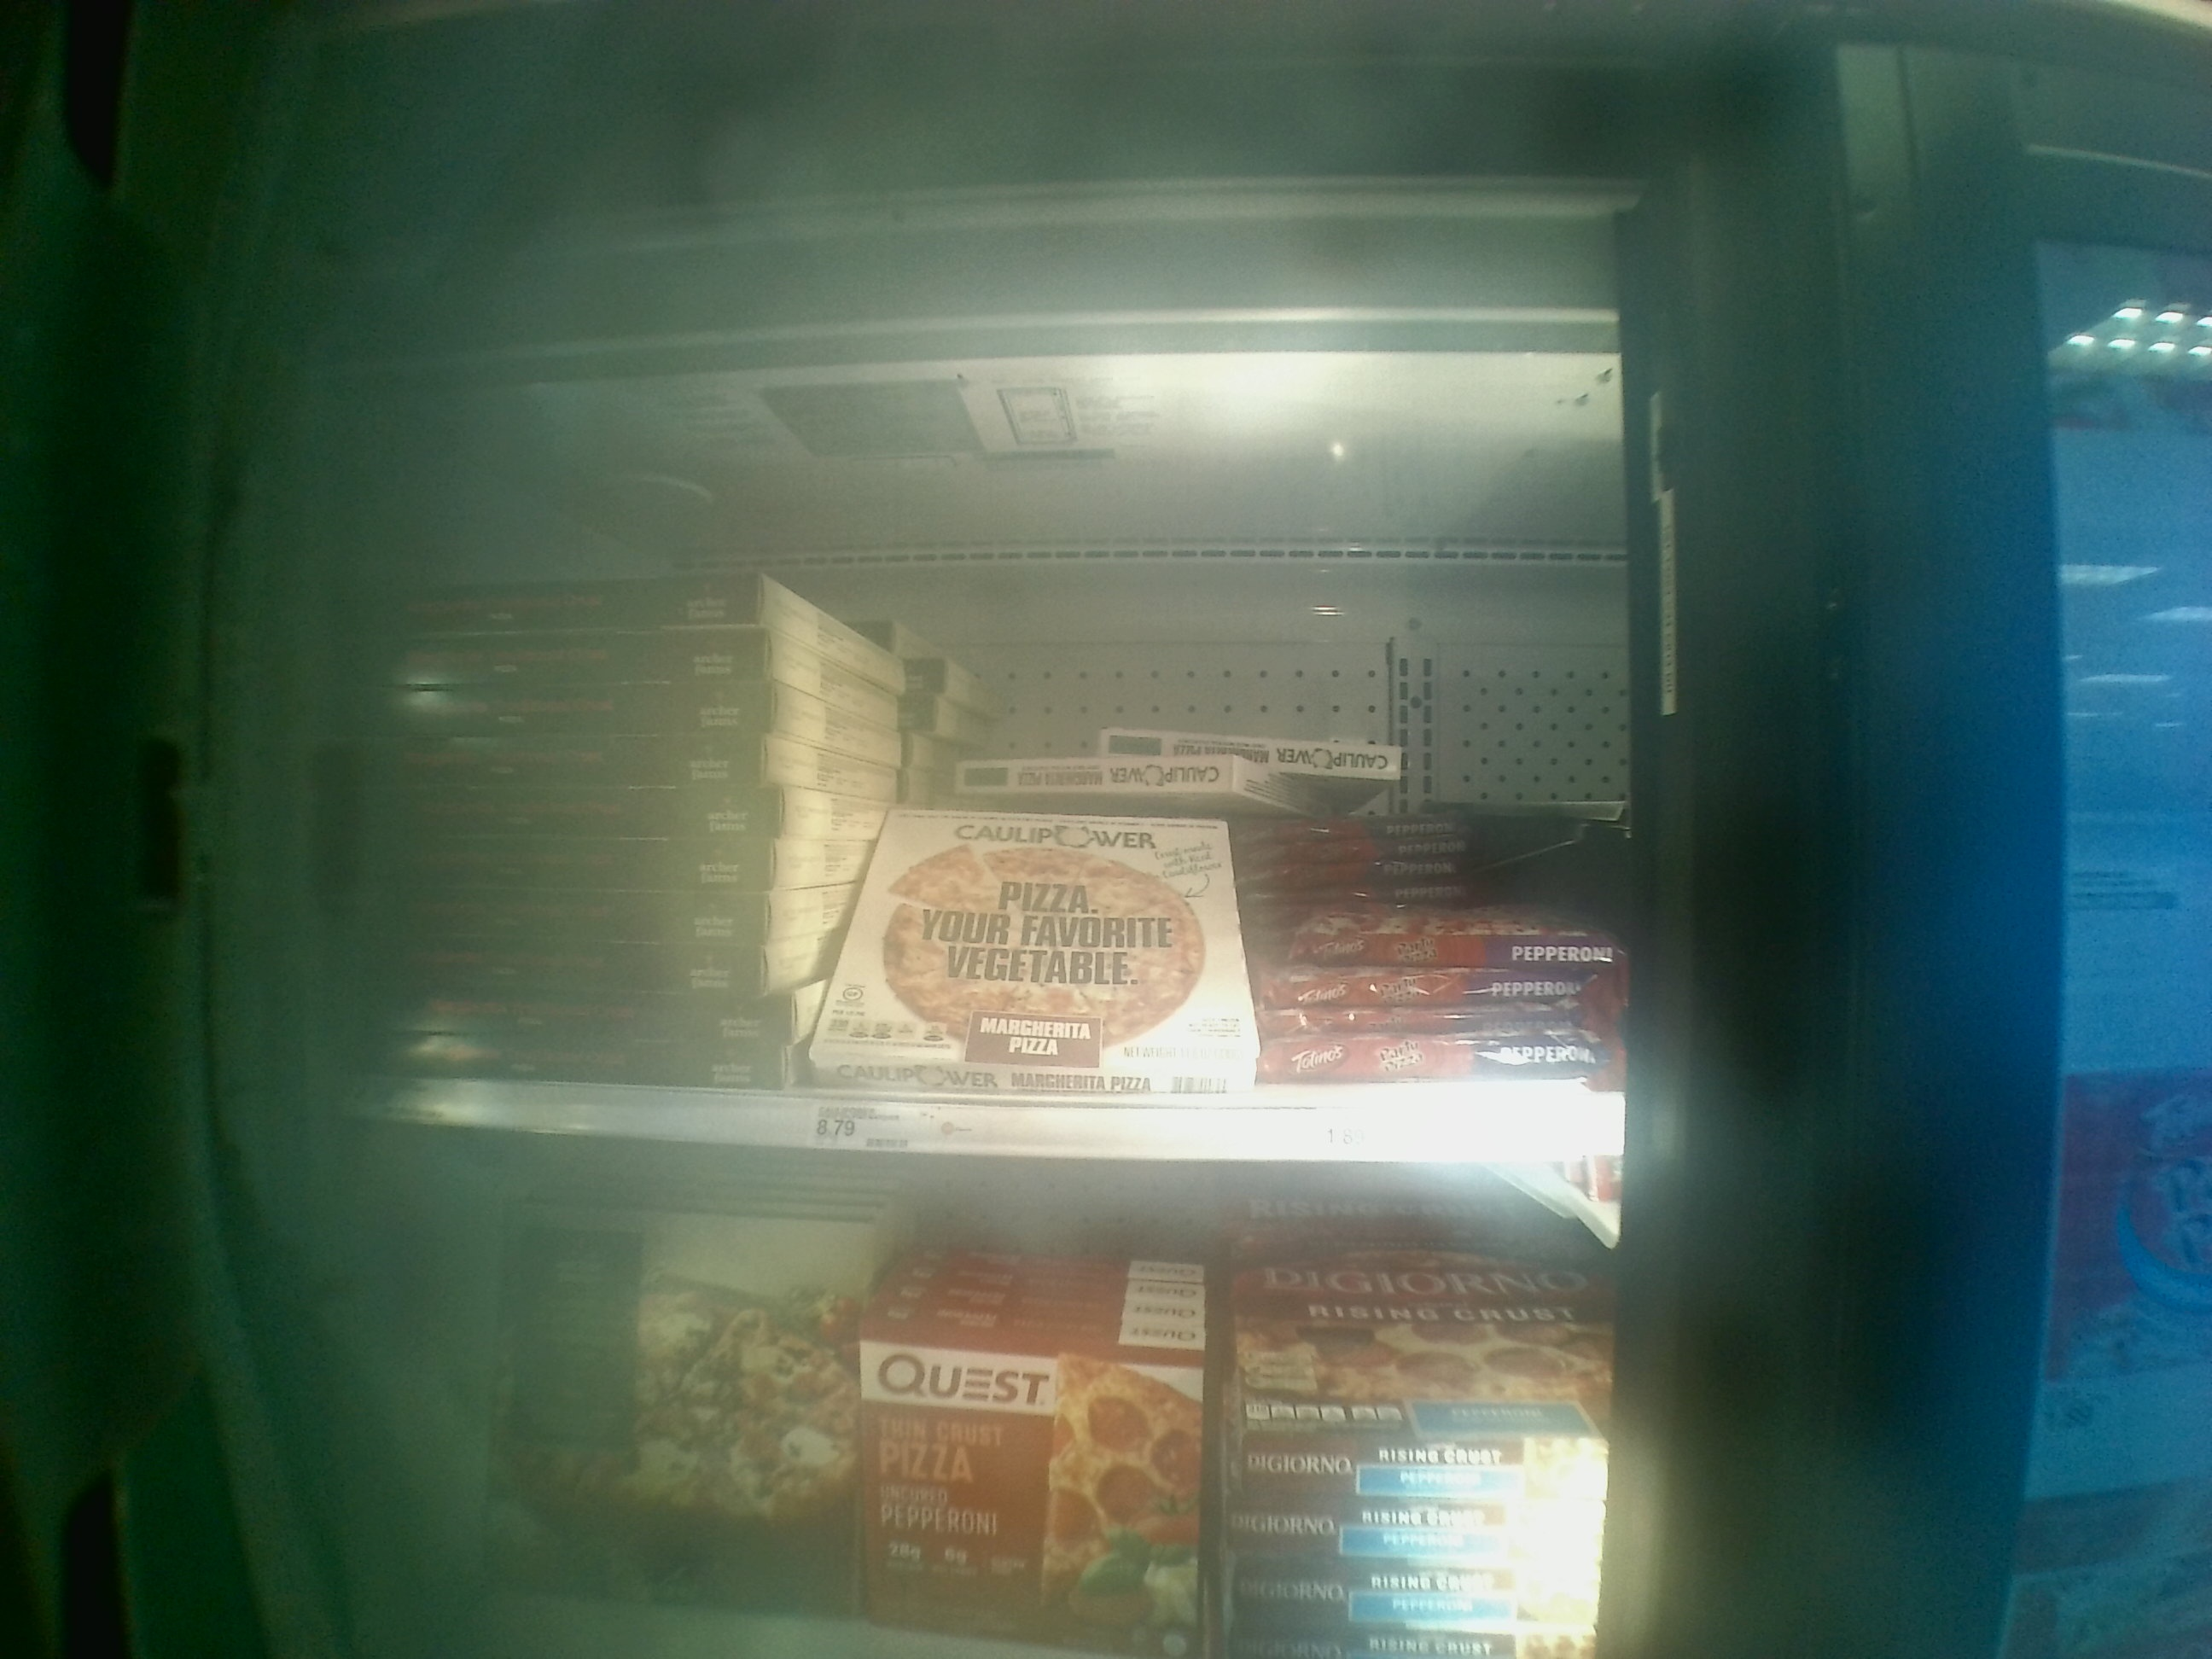shelf: (320, 312, 1622, 1168)
